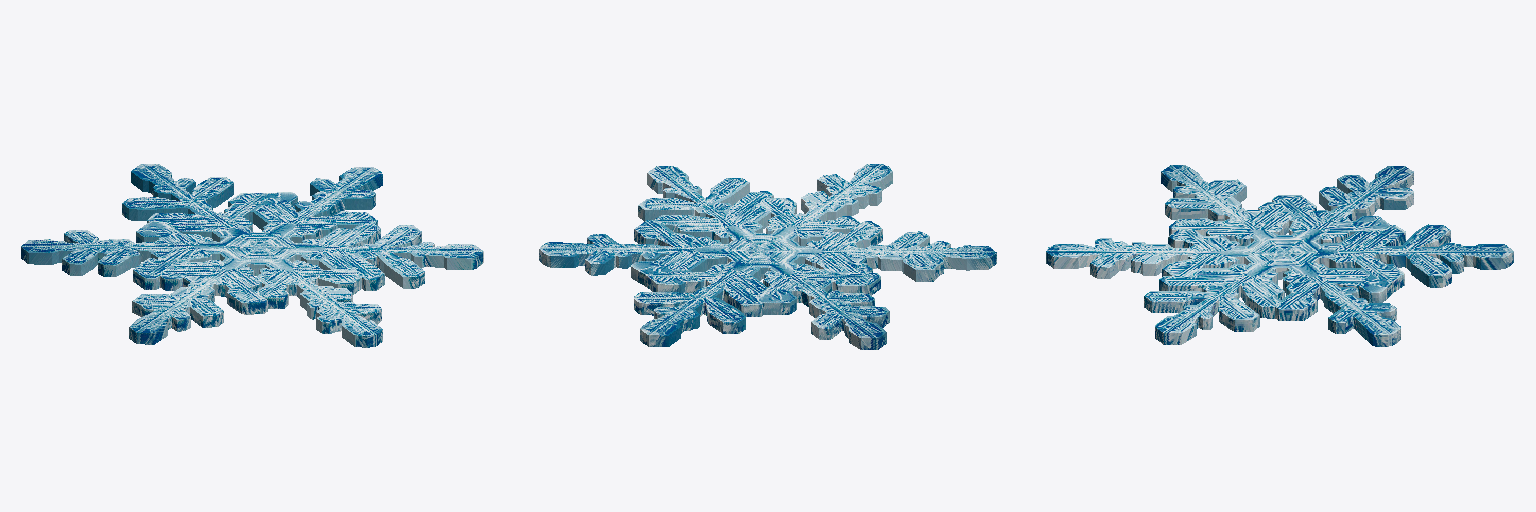
3 views of the same model, side by side, from view 1: azimuth 30°, elevation 25°; view 2: azimuth 150°, elevation 25°; view 3: azimuth 270°, elevation 25° (orthographic).
Parts seen in each view (by area): view 1: Snowflake_CUNurbsPath.002; view 2: Snowflake_CUNurbsPath.002; view 3: Snowflake_CUNurbsPath.002.
Boxes of the visible parts, x1=… form: Snowflake_CUNurbsPath.002: x1=21, y1=164, x2=483, y2=347; Snowflake_CUNurbsPath.002: x1=539, y1=164, x2=996, y2=349; Snowflake_CUNurbsPath.002: x1=1046, y1=165, x2=1513, y2=346.
Bounding box in the file's own units: 7.69 × 0.244 × 8.95.
1 materials, 1 textured.